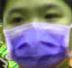with_mask: (1, 2, 72, 68)
